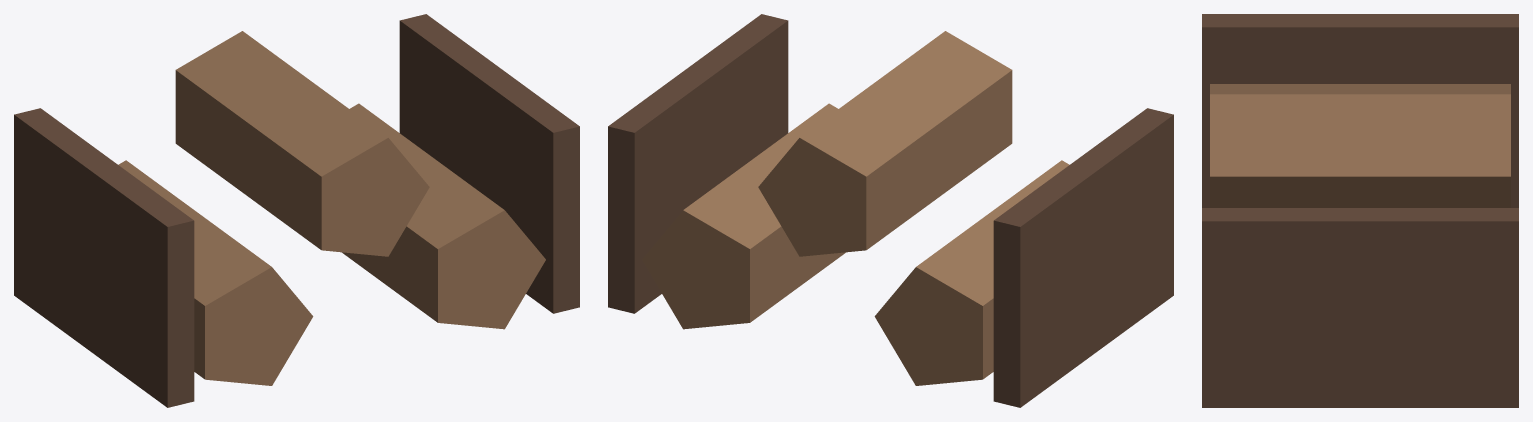
Rendered from ENV_Logpile_A_LOD1.glb.
3 renders of one model, left to right at view 1: azimuth 30°, elevation 25°; view 2: azimuth 150°, elevation 25°; view 3: azimuth 270°, elevation 25°, orthographic. The views are drawn at different scales.
Parts seen in each view (by area): view 1: ENV_Logpile_A_LOD1_cut_wood_woodLight, ENV_Logpile_A_LOD1_bindings_woodDark; view 2: ENV_Logpile_A_LOD1_cut_wood_woodLight, ENV_Logpile_A_LOD1_bindings_woodDark; view 3: ENV_Logpile_A_LOD1_bindings_woodDark, ENV_Logpile_A_LOD1_cut_wood_woodLight.
Part boxes in pixels (x1,y1,x2,y2): ENV_Logpile_A_LOD1_cut_wood_woodLight: (118, 31, 545, 385); ENV_Logpile_A_LOD1_bindings_woodDark: (14, 14, 579, 407); ENV_Logpile_A_LOD1_cut_wood_woodLight: (642, 31, 1069, 385); ENV_Logpile_A_LOD1_bindings_woodDark: (608, 14, 1173, 407); ENV_Logpile_A_LOD1_bindings_woodDark: (1202, 14, 1518, 407); ENV_Logpile_A_LOD1_cut_wood_woodLight: (1210, 84, 1510, 207).
Size of the model in its own units: 1.24 by 0.6324 by 0.8.
